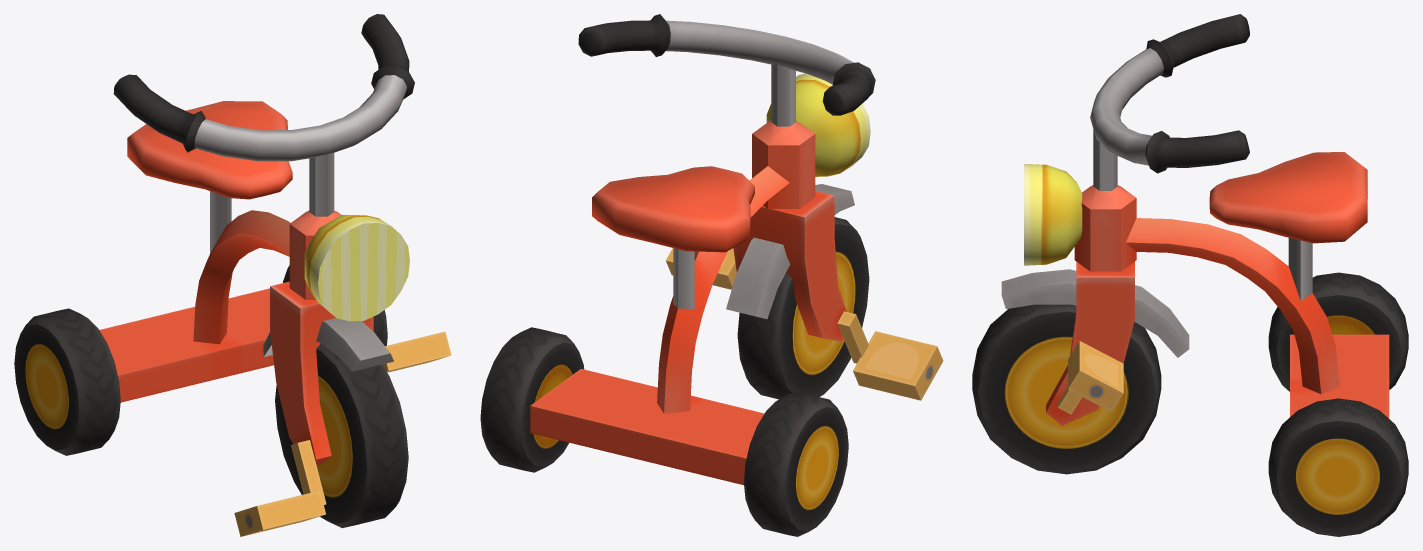
File: bicycle.FBX
The picture shows the model from 3 angles, left to right: view 1: azimuth 30°, elevation 25°; view 2: azimuth 150°, elevation 25°; view 3: azimuth 270°, elevation 25°; orthographic projection. The views are drawn at different scales.
Parts seen in each view (by area): view 1: bicycle; view 2: bicycle; view 3: bicycle.
Part boxes in pixels (x1,y1,x2,y2): bicycle: (14,14,451,536); bicycle: (480,14,943,536); bicycle: (972,14,1408,536).
Bounding box in the file's own units: 36.05 × 45.6 × 45.7.
